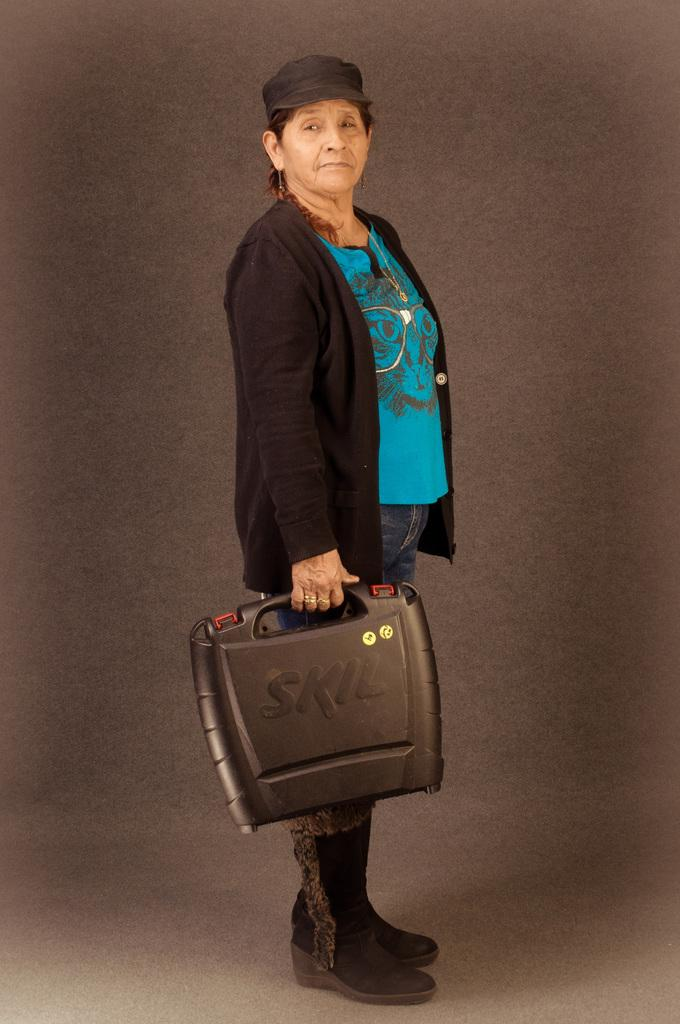Luggage-and-bags: (254, 559, 457, 825)
